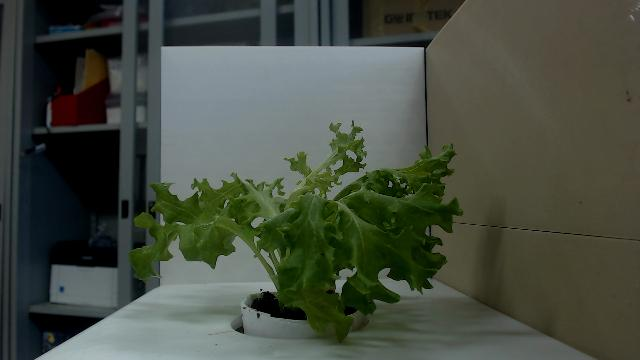Harvest Stage: (126, 118, 467, 344)
